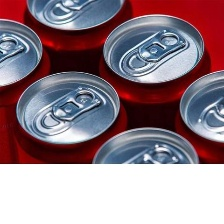can: (96, 11, 215, 126), (14, 68, 129, 162), (0, 17, 50, 165), (21, 0, 133, 59), (173, 66, 223, 164), (89, 123, 203, 164)
